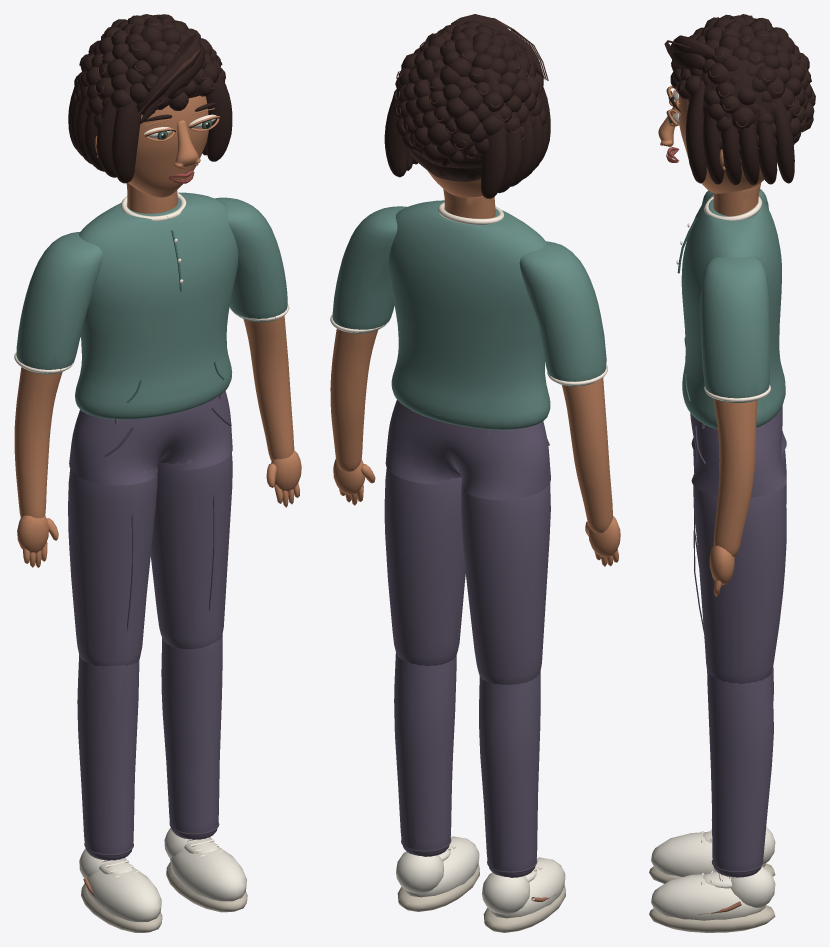
File: character_lod.glb
The picture shows the model from 3 angles, left to right: view 1: azimuth 30°, elevation 25°; view 2: azimuth 150°, elevation 25°; view 3: azimuth 270°, elevation 25°; orthographic projection.
Parts seen in each view (by area): view 1: Top_Blouse, Bottom_Thigh_-1, Bottom_Thigh_1, Bottom_Shin_-1, Bottom_Shin_1, Bottom_Hip, Top_Sleeve_L, Top_Sleeve_R, Skin_Forearm_L, Skin_Forearm_R, Skin_Face, Shoes_Upper_1 (+11 smaller); view 2: Top_Blouse, Bottom_Thigh_-1, Bottom_Thigh_1, Bottom_Shin_-1, Bottom_Hip, Bottom_Shin_1, Top_Sleeve_L, Top_Sleeve_R, Skin_Forearm_L, Skin_Forearm_R, Shoes_Upper_1, Shoes_Upper_-1 (+13 smaller); view 3: Bottom_Thigh_1, Bottom_Shin_1, Top_Blouse, Top_Sleeve_R, Skin_Forearm_R, Bottom_Hip, Shoes_Upper_1, Shoes_Upper_-1, Shoes_Sole_1, Hair_Bob_Lock.006, Hair_Bob_Lock.011, Shoes_Heel_1 (+14 smaller).
Part boxes in pixels (box(x1,y1,x2,y2)): Top_Blouse: box(75, 192, 238, 419); Bottom_Thigh_-1: box(68, 466, 157, 666); Bottom_Thigh_1: box(150, 453, 232, 649); Bottom_Shin_-1: box(77, 655, 139, 860); Bottom_Shin_1: box(161, 635, 222, 839); Bottom_Hip: box(69, 391, 232, 485); Top_Sleeve_L: box(16, 232, 102, 374); Top_Sleeve_R: box(215, 197, 287, 321); Skin_Forearm_L: box(14, 367, 62, 518); Skin_Forearm_R: box(243, 316, 294, 460); Skin_Face: box(128, 95, 208, 197); Shoes_Upper_1: box(170, 847, 246, 901); Top_Blouse: box(388, 200, 550, 429); Bottom_Thigh_-1: box(461, 481, 550, 684); Bottom_Thigh_1: box(384, 468, 465, 665); Bottom_Shin_-1: box(479, 671, 540, 877); Bottom_Hip: box(385, 400, 550, 499); Bottom_Shin_1: box(394, 653, 456, 856); Top_Sleeve_L: box(519, 241, 606, 386); Top_Sleeve_R: box(332, 206, 406, 333); Skin_Forearm_L: box(562, 378, 612, 533); Skin_Forearm_R: box(330, 329, 377, 471); Shoes_Upper_1: box(403, 836, 479, 897); Shoes_Upper_-1: box(489, 857, 565, 918); Bottom_Thigh_1: box(693, 485, 786, 683); Bottom_Shin_1: box(707, 671, 773, 877); Top_Blouse: box(681, 192, 785, 429); Top_Sleeve_R: box(700, 256, 769, 402); Skin_Forearm_R: box(713, 398, 757, 556); Bottom_Hip: box(690, 405, 786, 497); Shoes_Upper_1: box(651, 874, 765, 920); Shoes_Upper_-1: box(651, 832, 765, 876); Shoes_Sole_1: box(649, 905, 775, 932); Hair_Bob_Lock.006: box(686, 74, 706, 183); Hair_Bob_Lock.011: box(773, 97, 794, 183); Shoes_Heel_1: box(730, 866, 775, 907).
Size of the model in its own units: 0.5962 by 1.78 by 0.3035.
